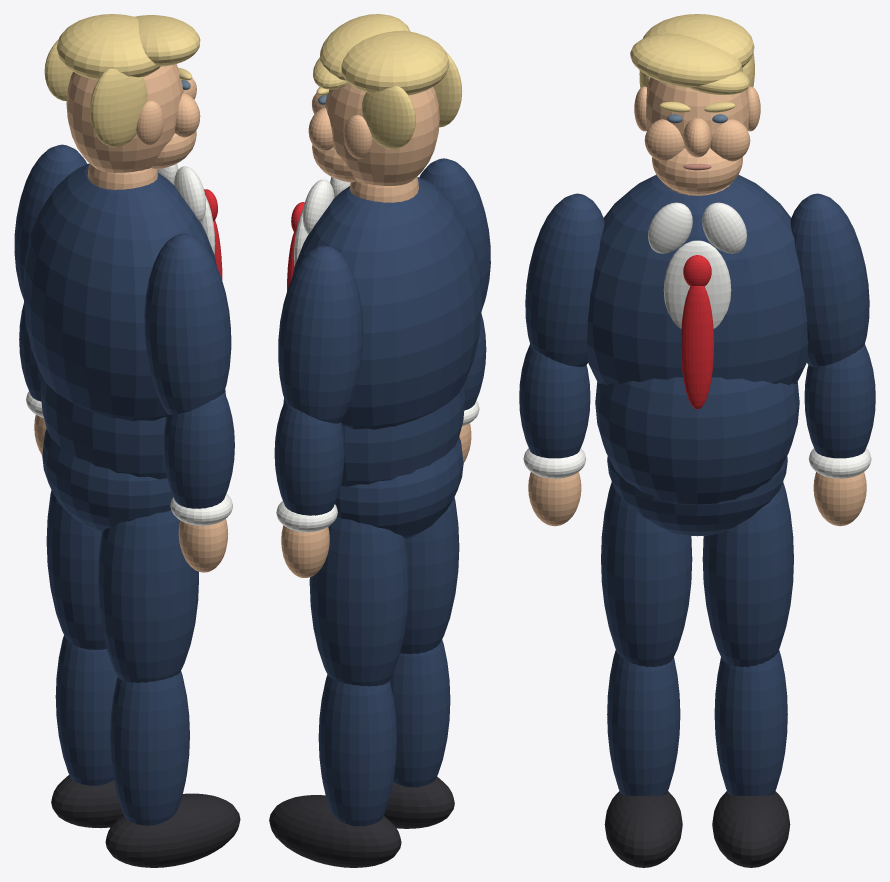
Rendered from trump.glb.
3 views of the same model, side by side, from view 1: azimuth 30°, elevation 25°; view 2: azimuth 150°, elevation 25°; view 3: azimuth 270°, elevation 25° (orthographic).
Bounding box in the file's own units: 0.421 × 1.89 × 0.75.
